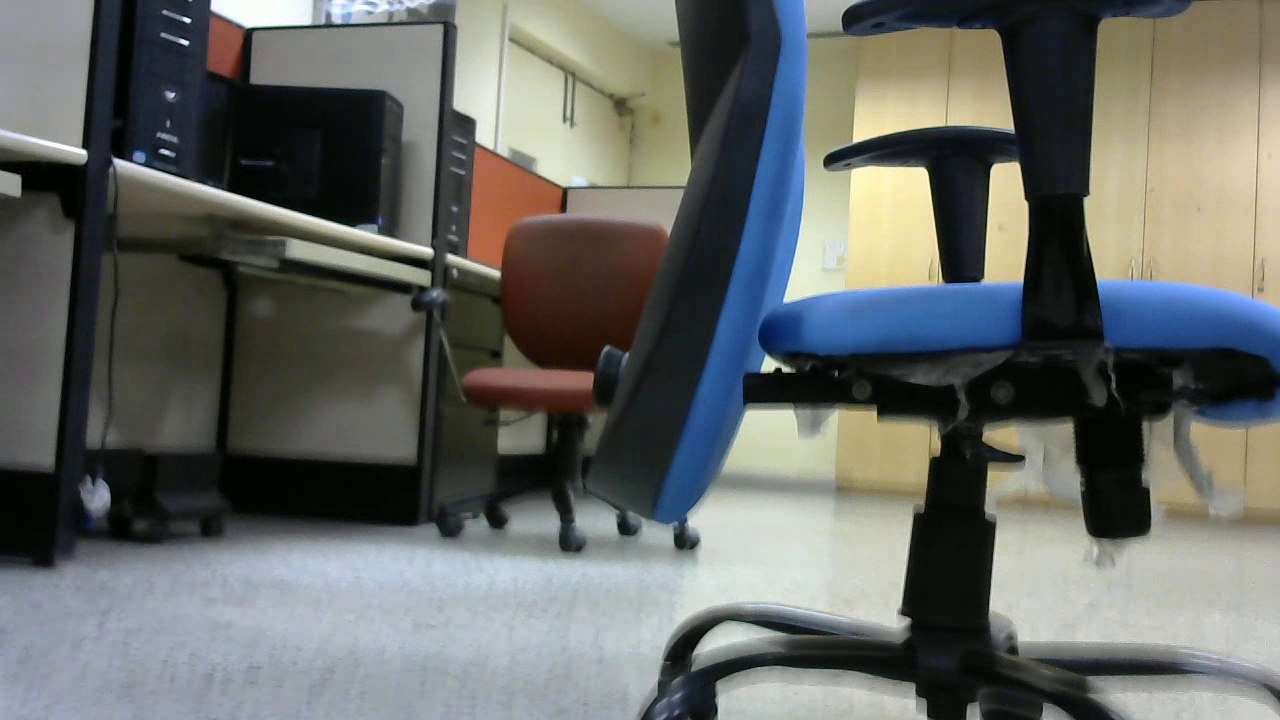chair: (629, 1, 1280, 720), (424, 206, 708, 556)
